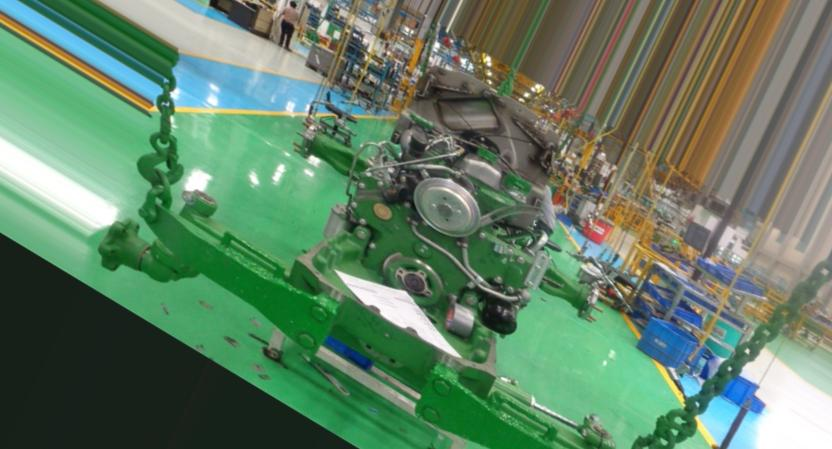engine: (101, 0, 624, 449)
